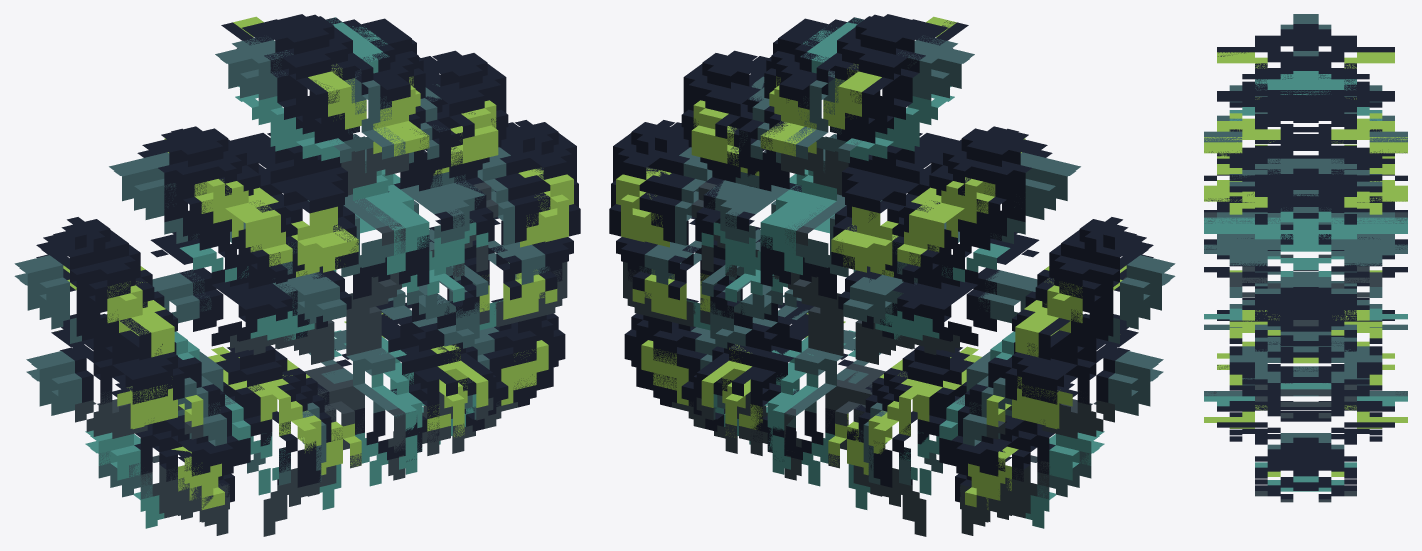
File: Bushe4.glb
3 views of the same model, side by side, from view 1: azimuth 30°, elevation 25°; view 2: azimuth 150°, elevation 25°; view 3: azimuth 270°, elevation 25° (orthographic). The views are drawn at different scales.
Parts seen in each view (by area): view 1: q0, q2, q3, q4, q5, q1, q6; view 2: q0, q2, q3, q4, q5, q1, q6; view 3: q0, q2, q4, q3, q5, q1, q6.
Part boxes in pixels (box(x1,y1,x2,y2)): q0: box(14, 17, 580, 536); q2: box(14, 16, 508, 433); q3: box(61, 17, 580, 517); q4: box(36, 70, 580, 528); q5: box(164, 63, 573, 479); q1: box(228, 14, 416, 145); q6: box(279, 324, 500, 487); q0: box(609, 17, 1175, 536); q2: box(681, 15, 1175, 433); q3: box(609, 17, 1126, 509); q4: box(609, 59, 1152, 528); q5: box(616, 83, 1035, 486); q1: box(773, 14, 961, 146); q6: box(689, 327, 910, 485); q0: box(1204, 14, 1407, 499); q2: box(1204, 41, 1407, 286); q4: box(1204, 85, 1396, 472); q3: box(1204, 35, 1407, 487); q5: box(1204, 170, 1407, 502); q1: box(1217, 19, 1394, 122); q6: box(1205, 365, 1407, 491).
Size of the model in its own units: 46 by 40 by 16.
Materials: 1 (1 with a texture image).
